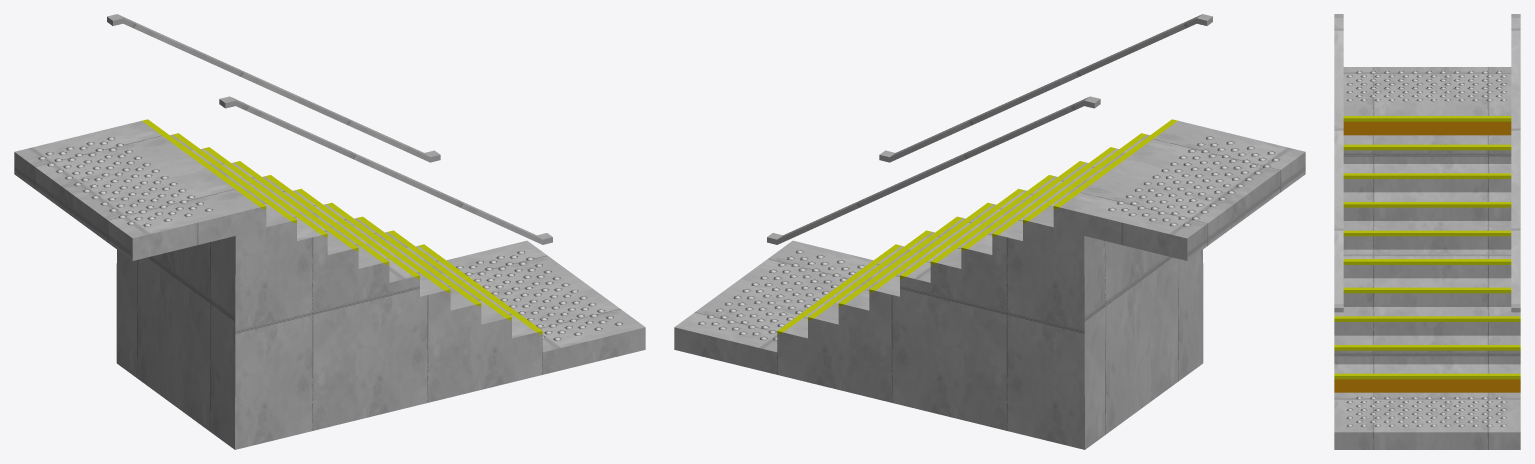
Rendered from escalier expo.fbx.
3 renders of one model, left to right at view 1: azimuth 30°, elevation 25°; view 2: azimuth 150°, elevation 25°; view 3: azimuth 270°, elevation 25°, orthographic. The views are drawn at different scales.
Parts seen in each view (by area): view 1: Cube.002; view 2: Cube.002; view 3: Cube.002.
Boxes of the visible parts, x1=… form: Cube.002: x1=14, y1=14, x2=645, y2=449; Cube.002: x1=674, y1=14, x2=1305, y2=449; Cube.002: x1=1334, y1=14, x2=1520, y2=449.
Size of the model in its own units: 1000 by 650 by 400.
